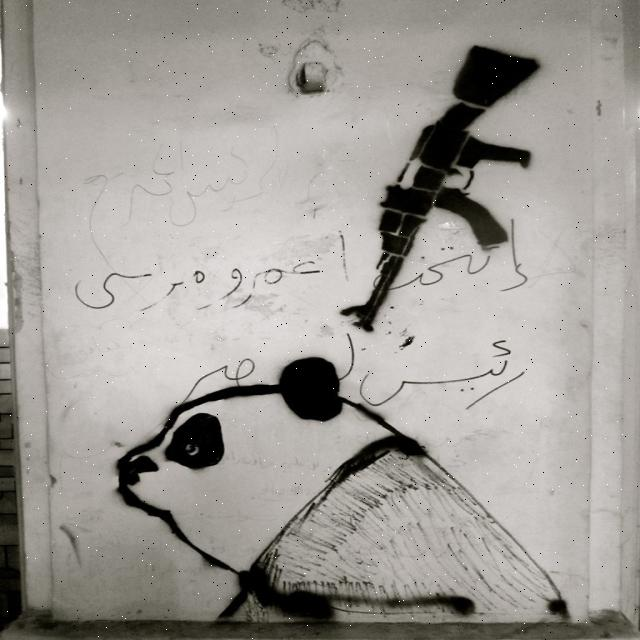panda: (118, 354, 569, 630)
